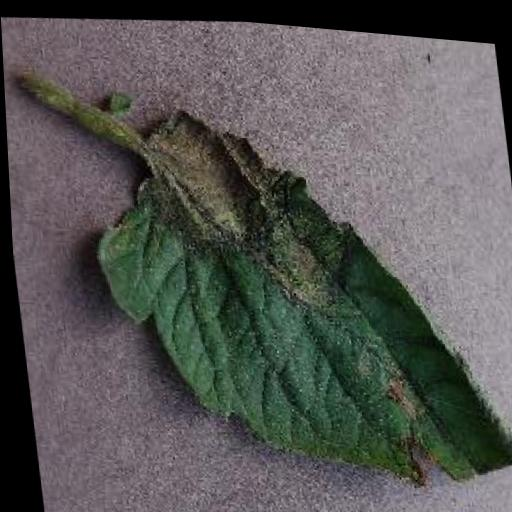Late Blight: (74, 73, 512, 506)
